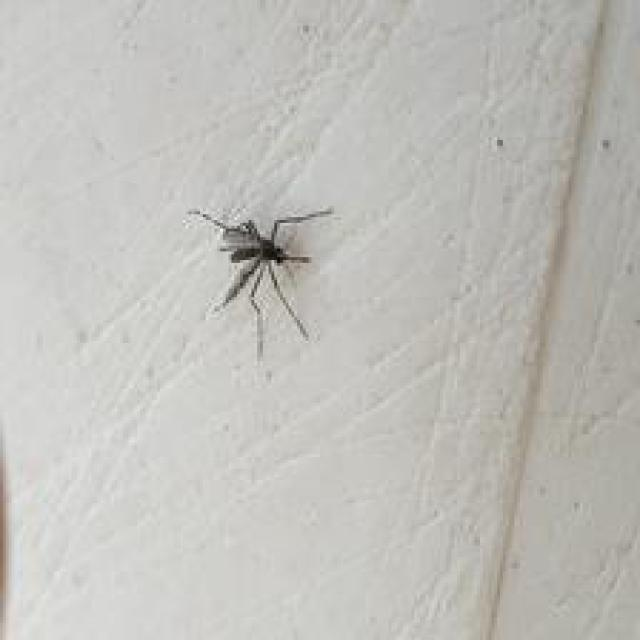Aedes albopictus: (186, 203, 334, 360)
